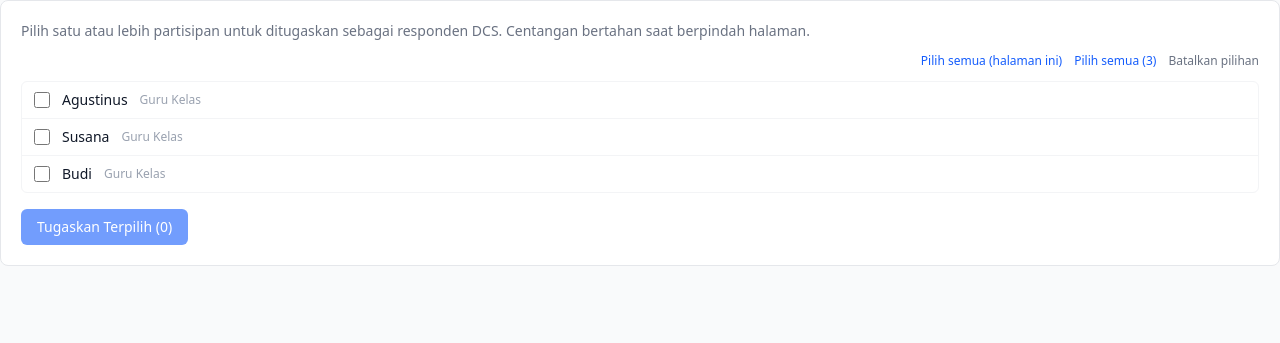
Test: AssignResponden (DCS) › submit created saja → panel menampilkan jumlah, tanpa daftar skip
This screenshot has width=1280, height=343.
Click the button "Pilih semua (3)". click: (1115, 61)
box: [1074,53,1156,69]
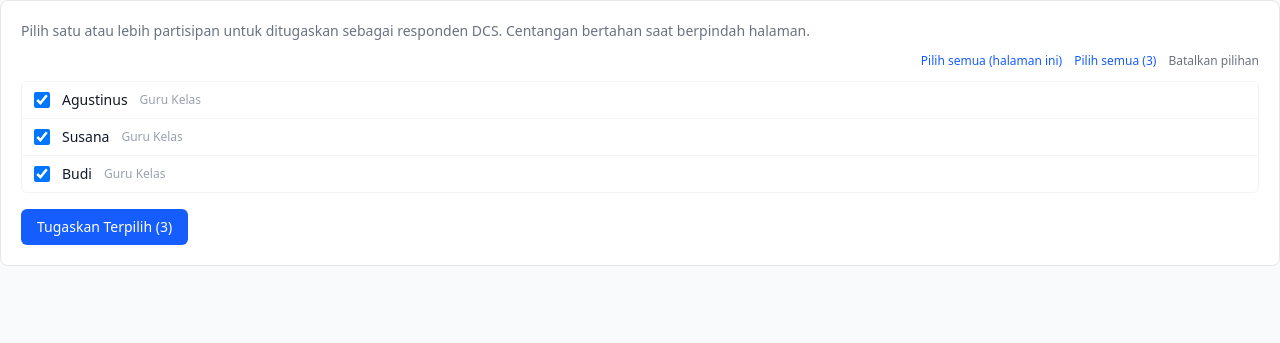
Click the button "Tugaskan Terpilih (3)". click: (105, 227)
box: [21,209,188,245]
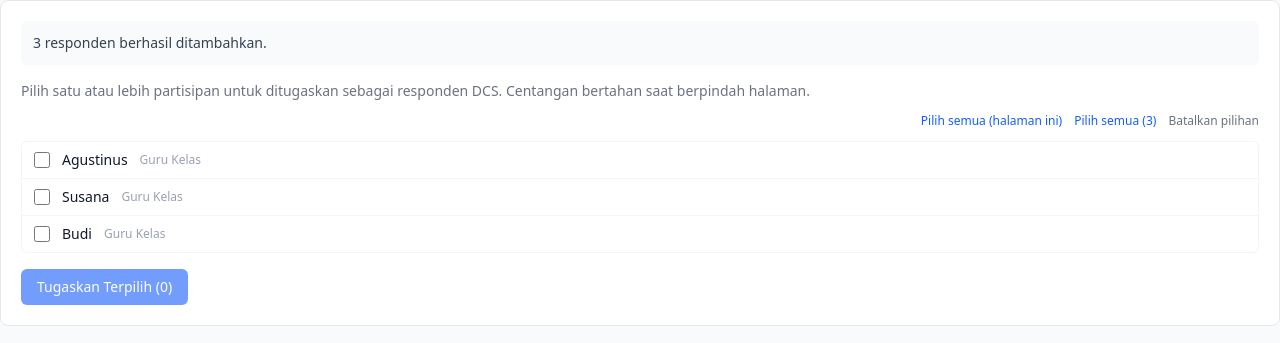
Check: the text "3 responden berhasil ditambahkan." is shown, box [33,33,267,52]
